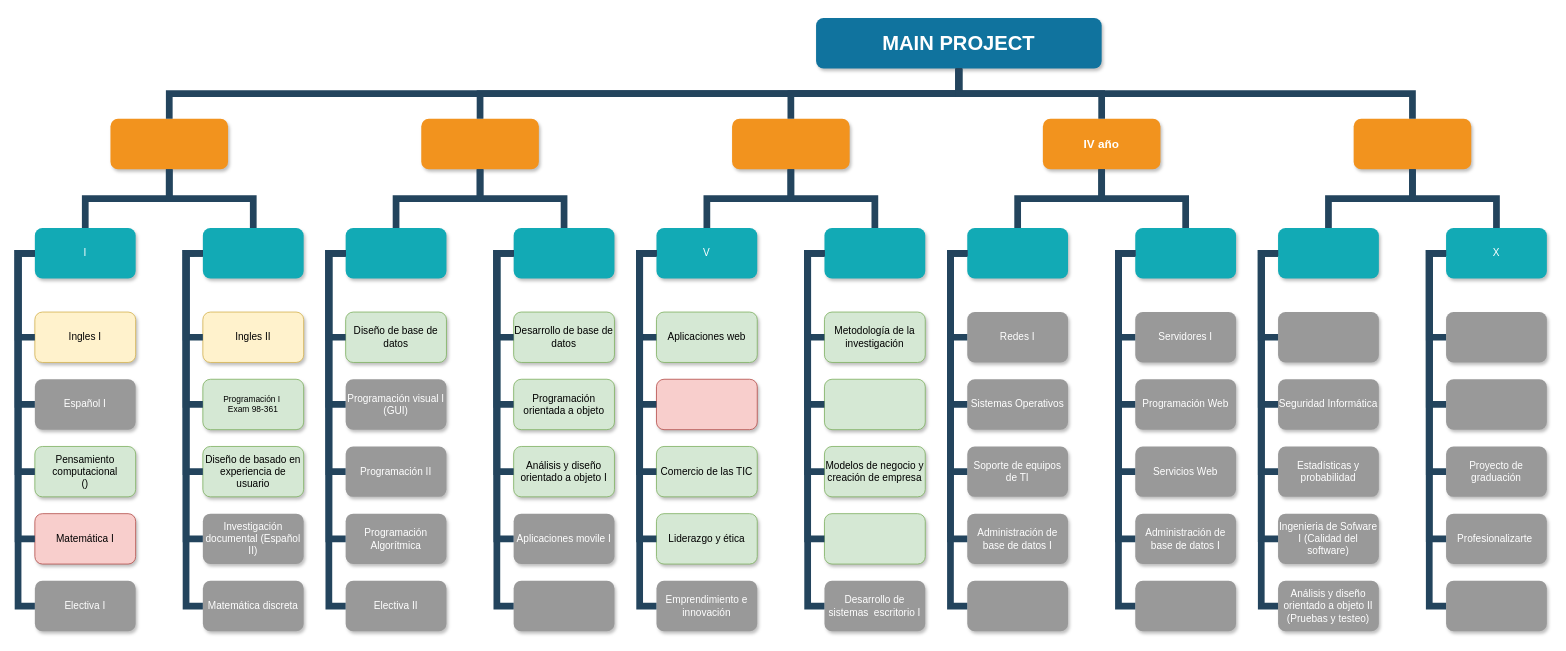
The diagram is 1566 pixels wide and 651 high, and some of its shapes have lost their labels. The shapes that lost their labels are listed below. From the top down, each one's centre as x and y in pixels, then its label:
At (x=170, y=145): "I año".
At (x=480, y=145): "II año".
At (x=791, y=145): "III año".
At (x=1413, y=145): "V año".
At (x=253, y=254): "II".
At (x=396, y=254): "III".
At (x=564, y=254): "IV".
At (x=875, y=254): "VI".
At (x=1018, y=254): "VII".
At (x=1186, y=254): "VIII".
At (x=1328, y=254): "IX".
